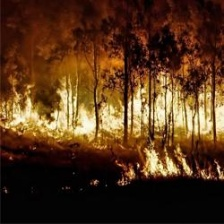fire: (2, 87, 224, 142), (120, 151, 222, 182)
